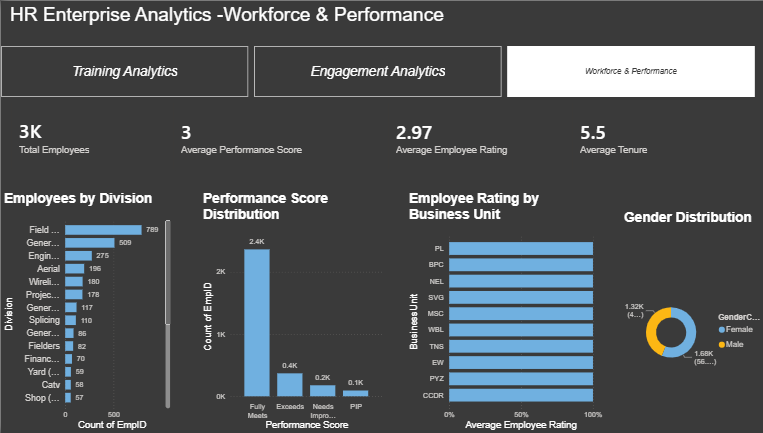

Layout of this report page (visuals, bound fields, positions):
{"tool":"powerbi","page":{"name":"Workforce & Performance","canvas":[1280,720],"ordinal":2},"visuals":[{"type":"textbox","box":[10.1,0,1135.5,75.6],"z":0},{"type":"cardVisual","fields":{"Data":["DimEmployee.Total Employees"]},"box":[0,149.5,344.4,149.5],"z":1000},{"type":"cardVisual","fields":{"Data":["DimEmployee.Average Performance Score"]},"box":[270.4,149.5,344,150],"z":2000},{"type":"cardVisual","fields":{"Data":["DimEmployee.Average Employee Rating"]},"box":[628.2,149.5,344,150],"z":3000},{"type":"cardVisual","fields":{"Data":["DimEmployee.Average Tenure"]},"box":[935.6,149.5,344,150],"z":4000},{"type":"clusteredBarChart","title":"EmpIoyees by Division","fields":{"Category":["DimEmployee.Division"],"Y":["CountNonNull(DimEmployee.EmpID)"]},"box":[0,315.8,287.2,404.8],"z":5000},{"type":"clusteredColumnChart","title":"Performance Score Distribution","fields":{"Y":["CountNonNull(DimEmployee.EmpID)"],"Category":["DimEmployee.Performance Score"]},"box":[330.9,315.8,309.1,404.8],"z":6000},{"type":"hundredPercentStackedBarChart","title":"Employee Rating by Business Unit","fields":{"Category":["DimEmployee.BusinessUnit"],"Y":["DimEmployee.Average Employee Rating"]},"box":[675.3,315.8,332.6,404.8],"z":7000},{"type":"donutChart","title":"Gender Distribution","fields":{"Category":["DimEmployee.GenderCode"],"Y":["CountNonNull(DimEmployee.EmpID)"]},"box":[1033.1,346,246.9,374.6],"z":8000},{"type":"pageNavigator","box":[0,75.6,1258.2,85.7],"z":9000}]}

Visuals, with their boxes in screenshot pixels (x1, y1, x2, y2), scaled from the page's 1280x720 canvas onto the 763x433 screenshot:
textbox: (6,0,683,45)
cardVisual - DimEmployee.Total Employees: (0,90,205,180)
cardVisual - DimEmployee.Average Performance Score: (161,90,366,180)
cardVisual - DimEmployee.Average Employee Rating: (374,90,580,180)
cardVisual - DimEmployee.Average Tenure: (558,90,762,180)
"EmpIoyees by Division" clusteredBarChart: (0,190,171,432)
"Performance Score Distribution" clusteredColumnChart: (197,190,382,432)
"Employee Rating by Business Unit" hundredPercentStackedBarChart: (403,190,601,432)
"Gender Distribution" donutChart: (616,208,762,432)
pageNavigator: (0,45,750,97)
